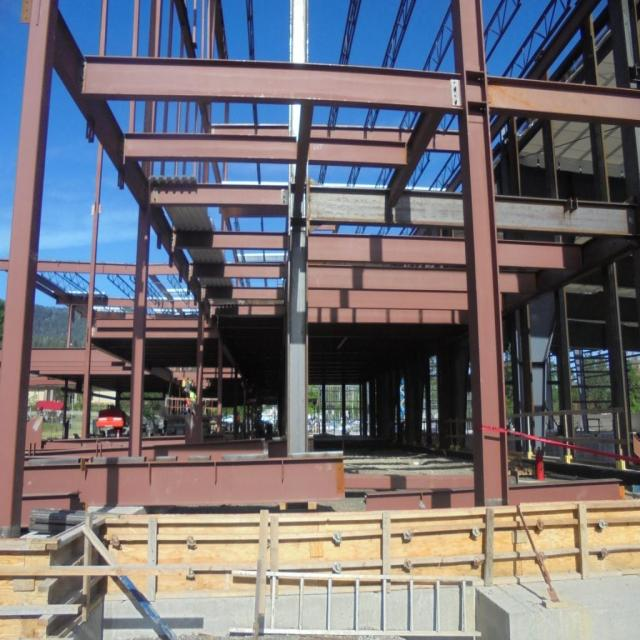steel beam: (80, 54, 465, 111), (308, 184, 635, 238), (20, 455, 344, 505), (307, 234, 587, 273), (120, 134, 410, 167), (211, 124, 481, 156), (486, 74, 640, 126), (306, 277, 511, 310), (308, 264, 540, 293), (145, 177, 290, 208), (307, 298, 469, 324), (169, 228, 288, 248), (189, 264, 288, 279), (202, 286, 285, 300), (207, 306, 285, 316)
